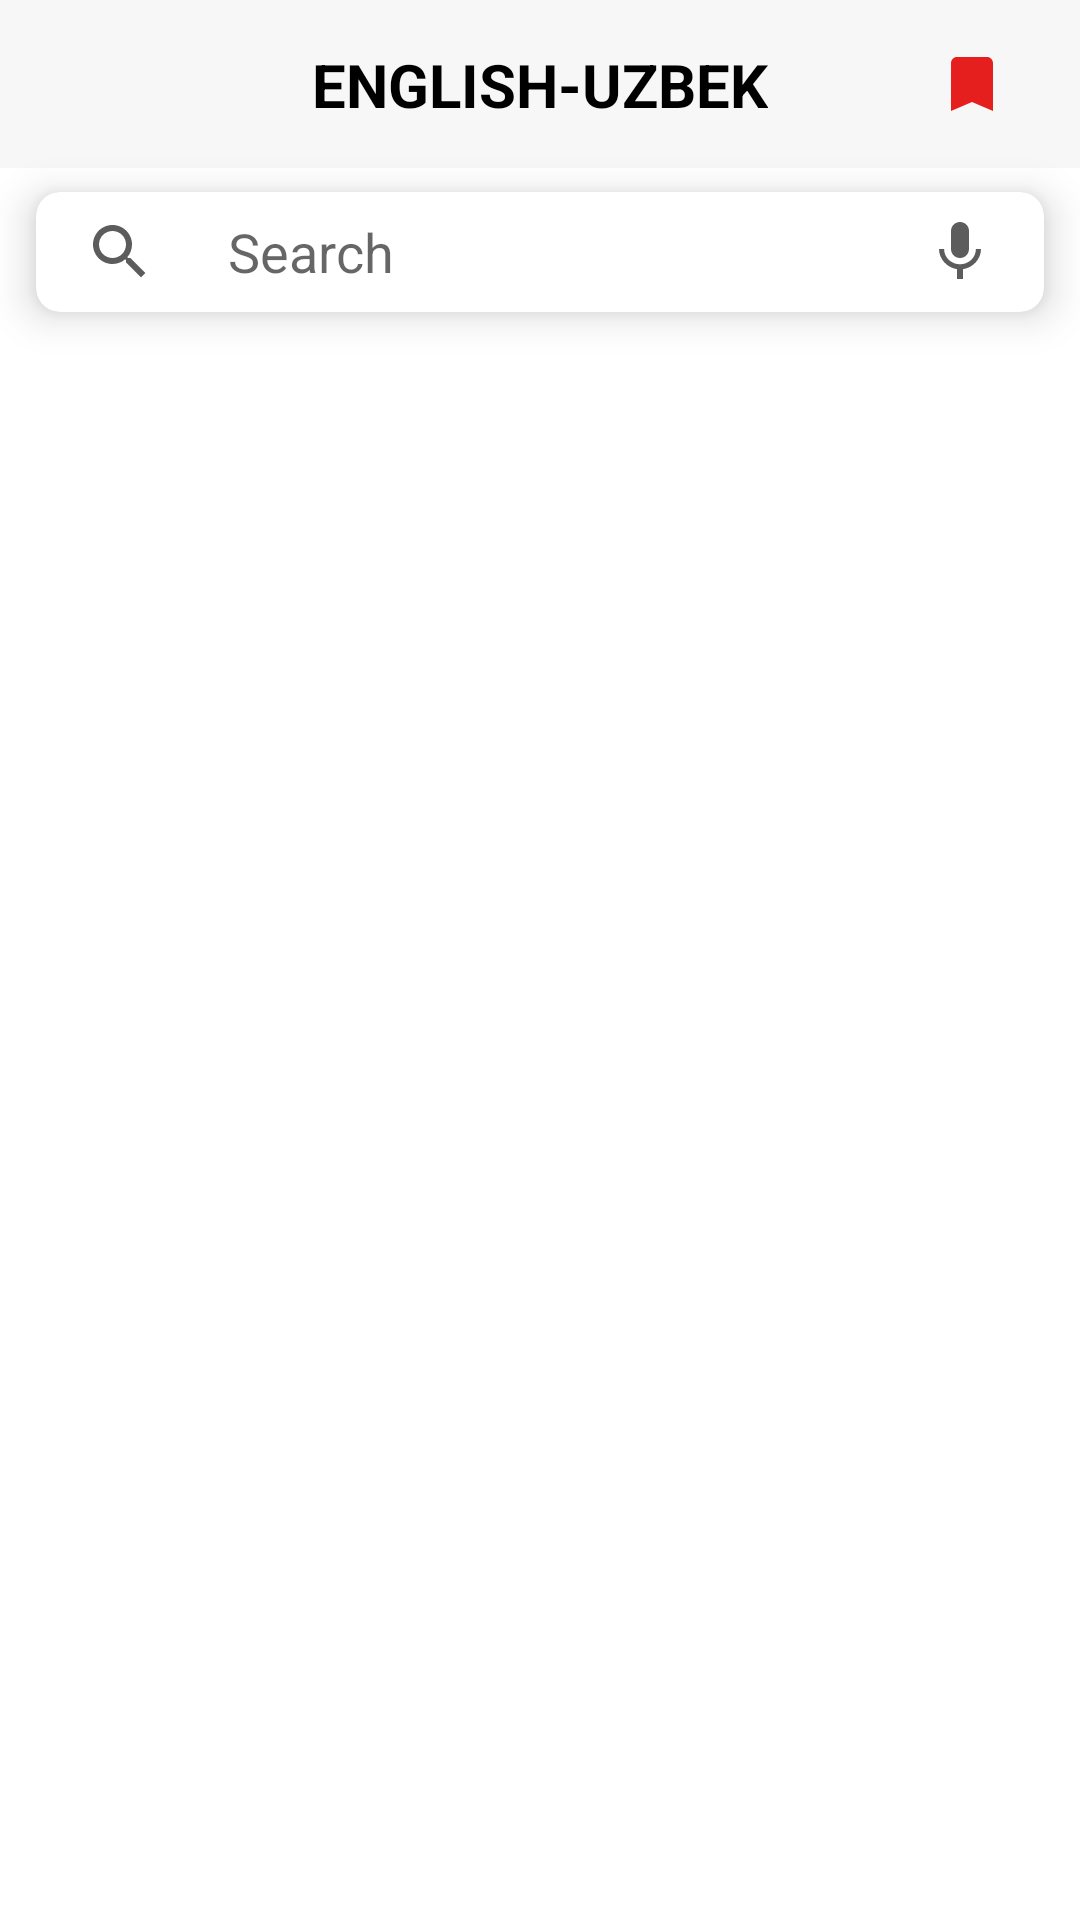

Named icons in this screenshot (1080 × 1920) and their bounding boxes, [x1, y1, x2, y2]:
bookmark: [951, 57, 993, 111]
mic: [939, 222, 981, 279]
